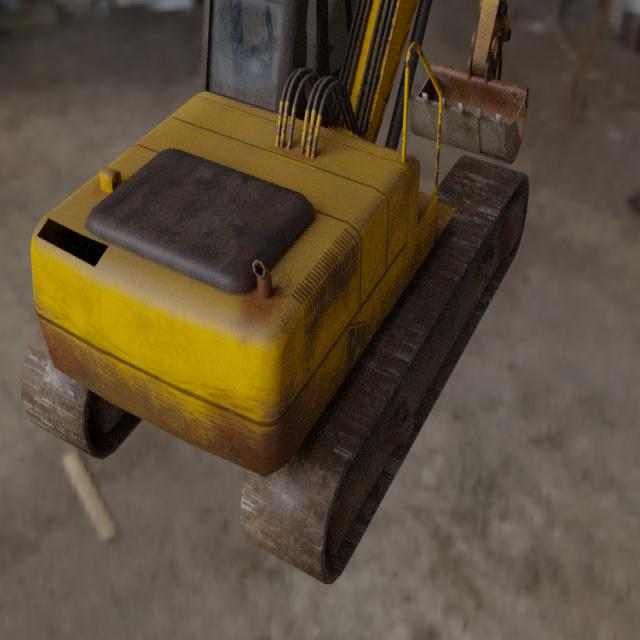excavator: (20, 0, 529, 585)
